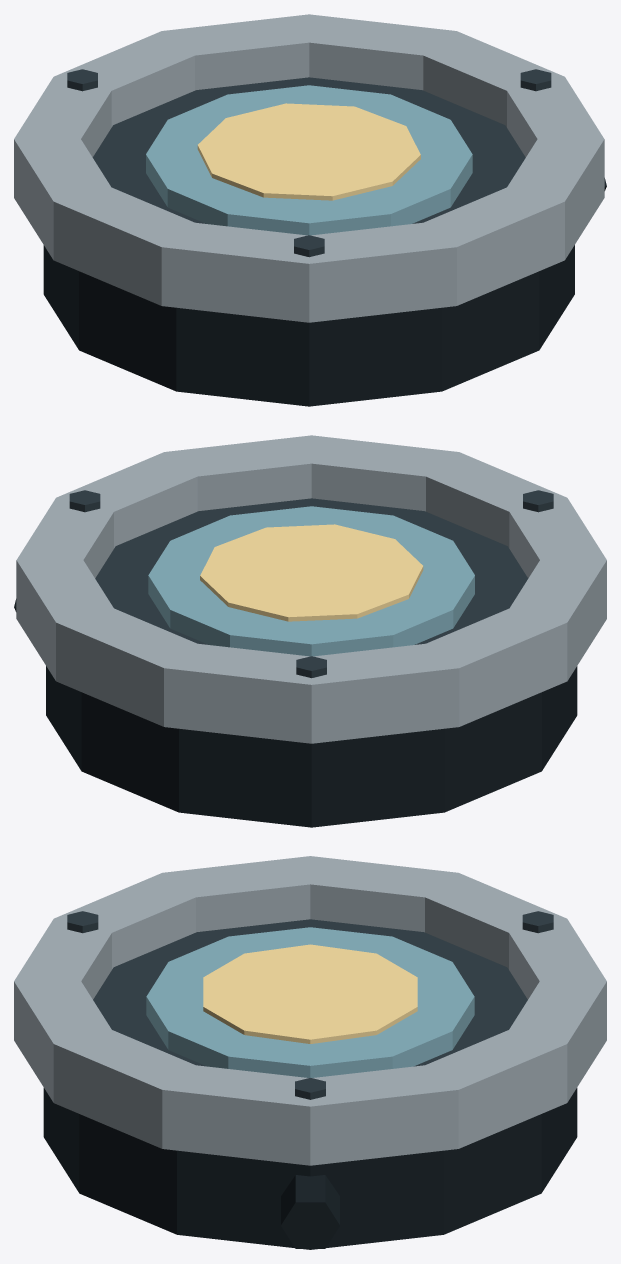
Rendered from b18_flush_inground_uplight.glb.
3 renders of one model, top to bottom at view 1: azimuth 30°, elevation 25°; view 2: azimuth 150°, elevation 25°; view 3: azimuth 270°, elevation 25°, orthographic.
Visible parts, largest first — view 1: b18_flush_inground_uplight; view 2: b18_flush_inground_uplight; view 3: b18_flush_inground_uplight.
Part boxes in pixels (x1=…): b18_flush_inground_uplight: x1=14, y1=14, x2=606, y2=406; b18_flush_inground_uplight: x1=14, y1=435, x2=606, y2=827; b18_flush_inground_uplight: x1=14, y1=856, x2=606, y2=1249.
Size of the model in its own units: 0.316 by 0.091 by 0.3.
